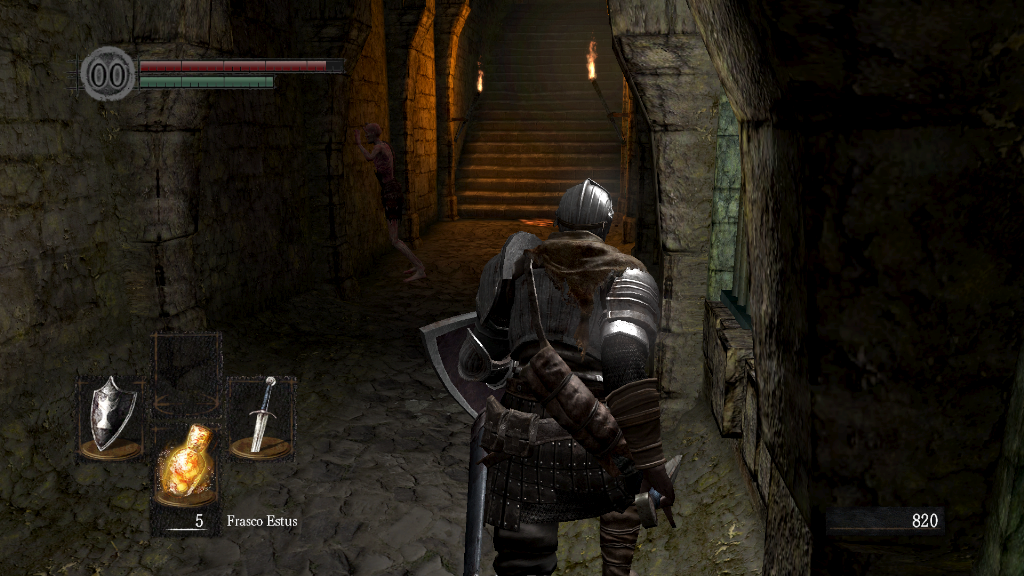health: (138, 58, 343, 71)
hollow: (352, 119, 427, 285)
humanity: (80, 45, 136, 102)
player: (419, 177, 686, 576)
souls: (825, 506, 945, 536)
stamina: (138, 74, 274, 88)
